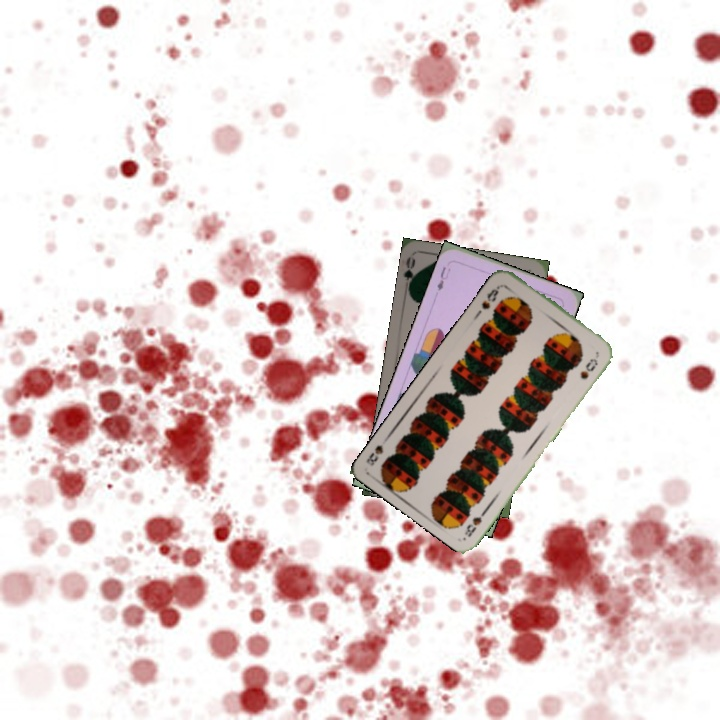EU: (433, 262, 453, 293)
GO: (400, 254, 421, 295)
S8: (460, 504, 491, 540), (477, 281, 509, 312)
